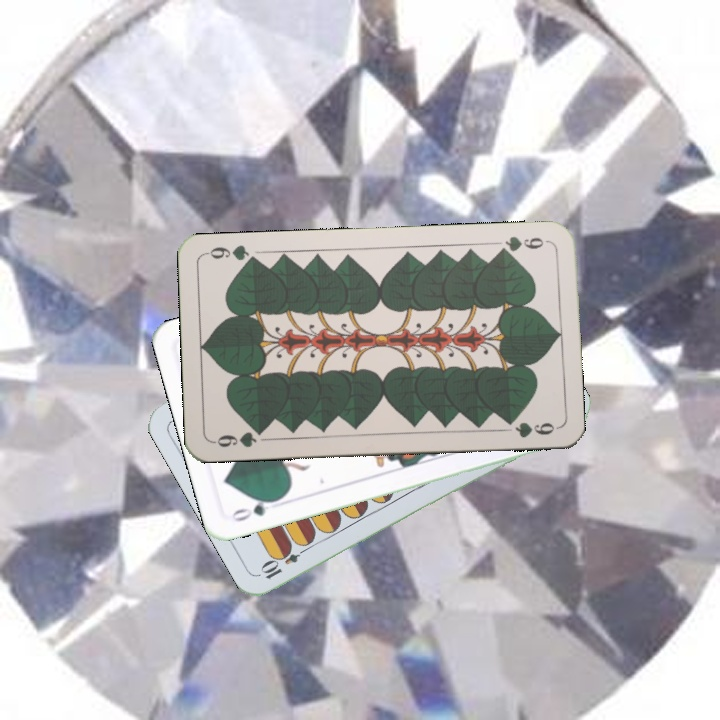E10: (257, 541, 312, 582)
G9: (209, 424, 268, 450), (492, 232, 551, 257)
GO: (228, 494, 283, 525)
